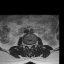CCS_normal: (29, 43, 30, 50)
LFS_severe_stenosis: (32, 42, 34, 47)
LLS_stenosis: (30, 43, 32, 48)
RFS_stenosis: (25, 42, 27, 47)
RLS_normal: (27, 43, 28, 48)
